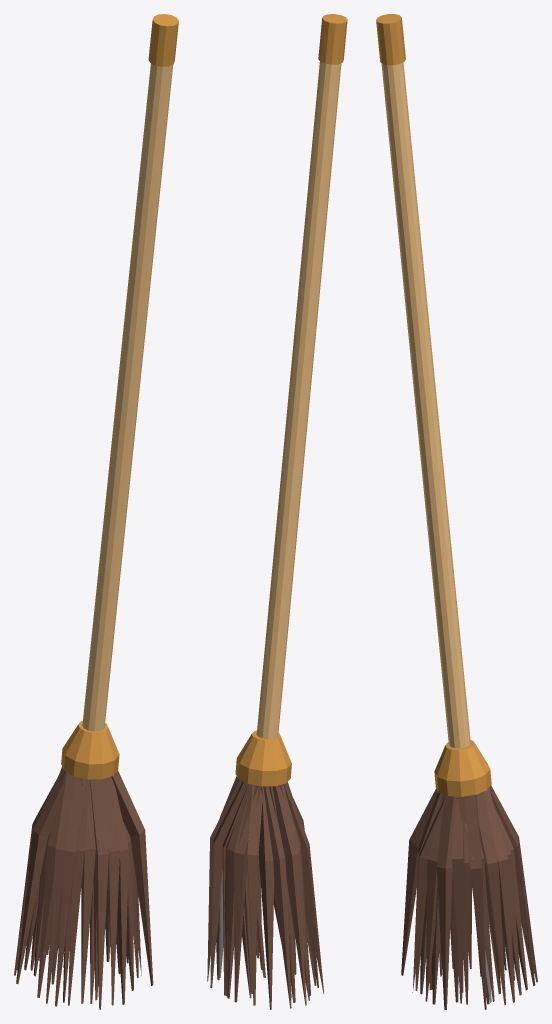
File: broom.glb
3 views of the same model, side by side, from view 1: azimuth 90°, elevation 25°; view 2: azimuth 150°, elevation 25°; view 3: azimuth 270°, elevation 25° (orthographic). The views are drawn at different scales.
Parts seen in each view (by area): view 1: Node; view 2: Node; view 3: Node.
Boxes of the visible parts, <box> form: Node: <box>14,14,178,1009</box>; Node: <box>207,14,347,1009</box>; Node: <box>376,14,537,1009</box>.
Size of the model in its own units: 0.4952 by 4.37 by 0.6608.
